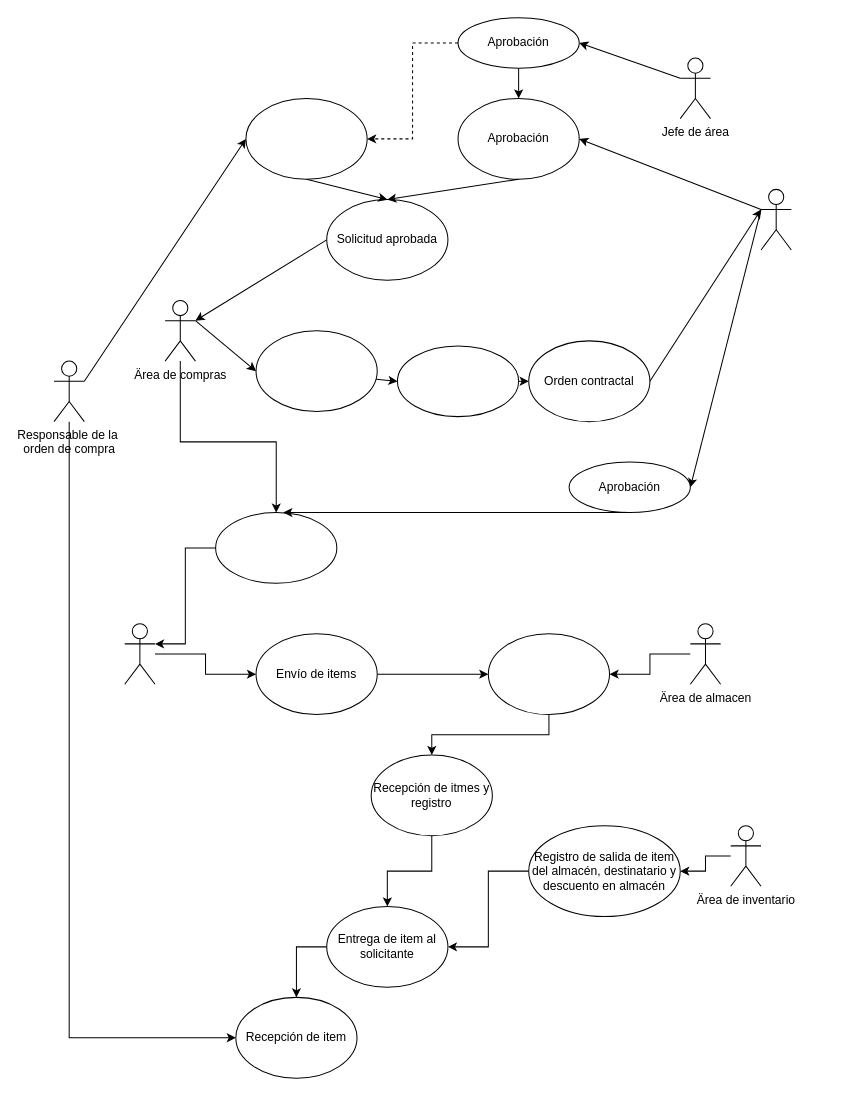
Some shapes in this 842 by 1096 pixel diagram are drawn without their labels. The shapes that lost their labels are listed below. From the top down, each one's centre as x and y in pixels, then its label:
At [306,138]: "Solicitar compra".
At [775,219]: "Director financiero".
At [316,371]: "Cotización".
At [457,381]: "Cotización definitiva".
At [276,547]: "Orden aprobada".
At [139,653]: "Proveedores".
At [548,674]: "Comparación de factura".
